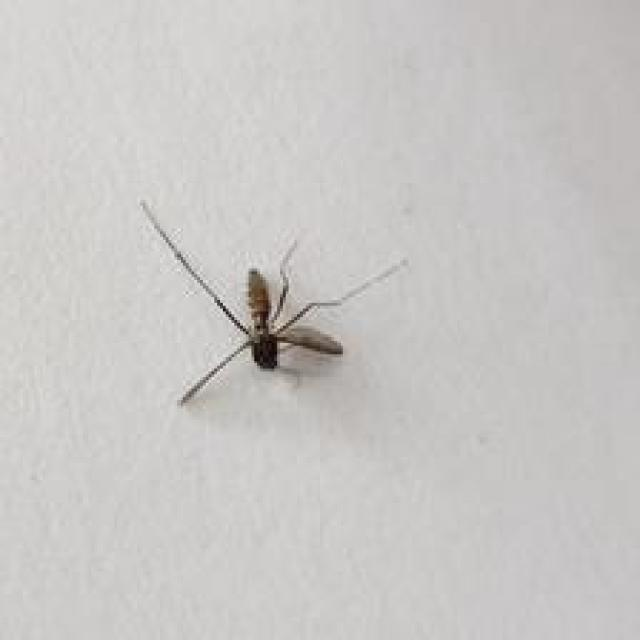Aedes albopictus: (139, 197, 410, 409)
